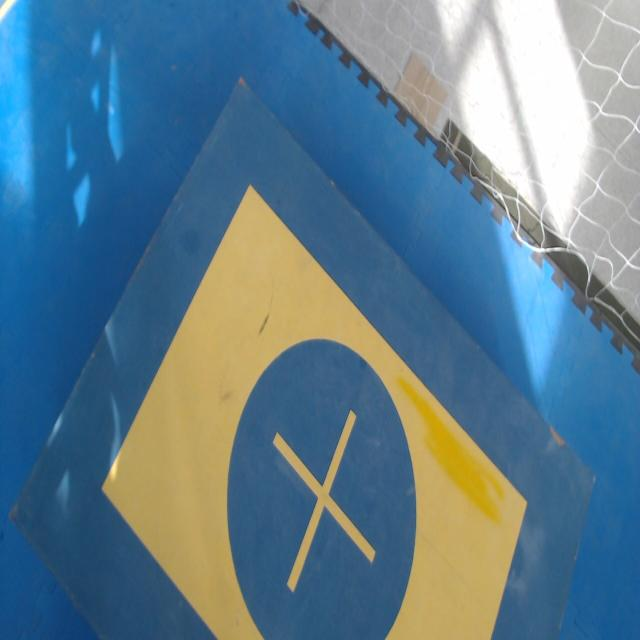base_inicio: (101, 183, 528, 639)
